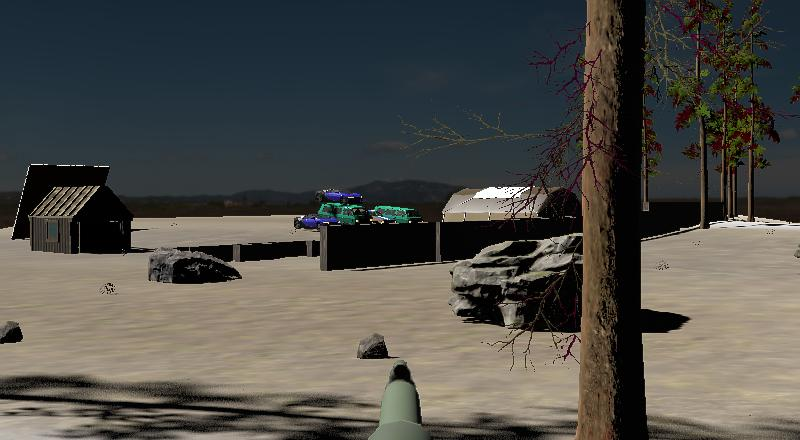House: (27, 182, 134, 254)
car: (316, 202, 371, 228), (369, 205, 423, 228), (314, 185, 365, 209), (293, 212, 338, 232)
